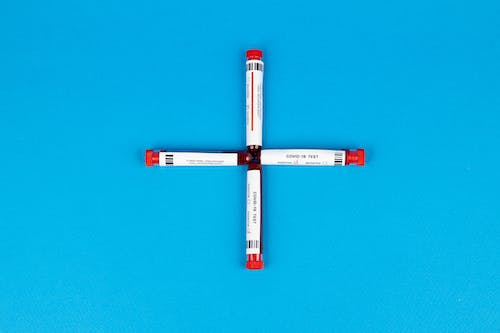blood: (237, 148, 253, 167), (246, 159, 265, 172), (245, 146, 264, 156), (255, 146, 262, 167)
